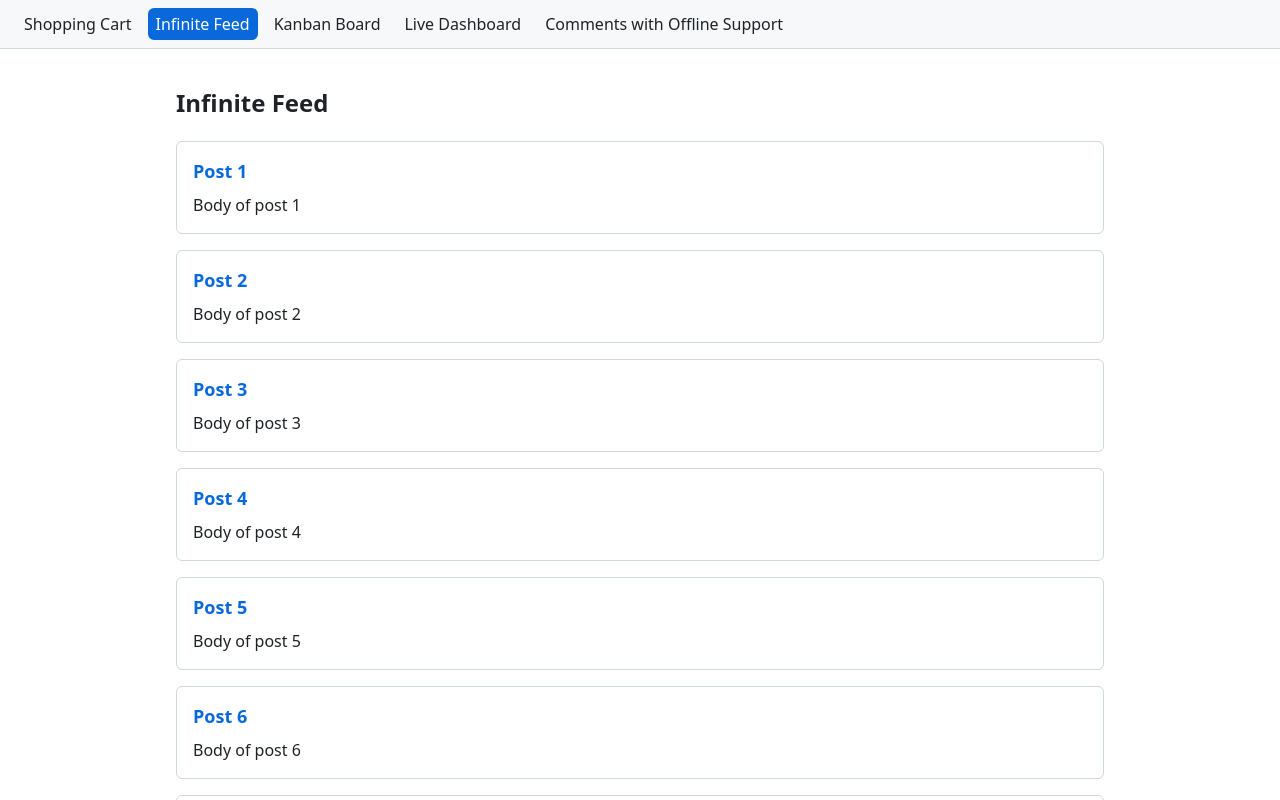
Scenario: app routes › opens the Shopping Cart page from its navigation link
Click the link "Shopping Cart".
click(78, 24)  # box [16, 8, 140, 40]
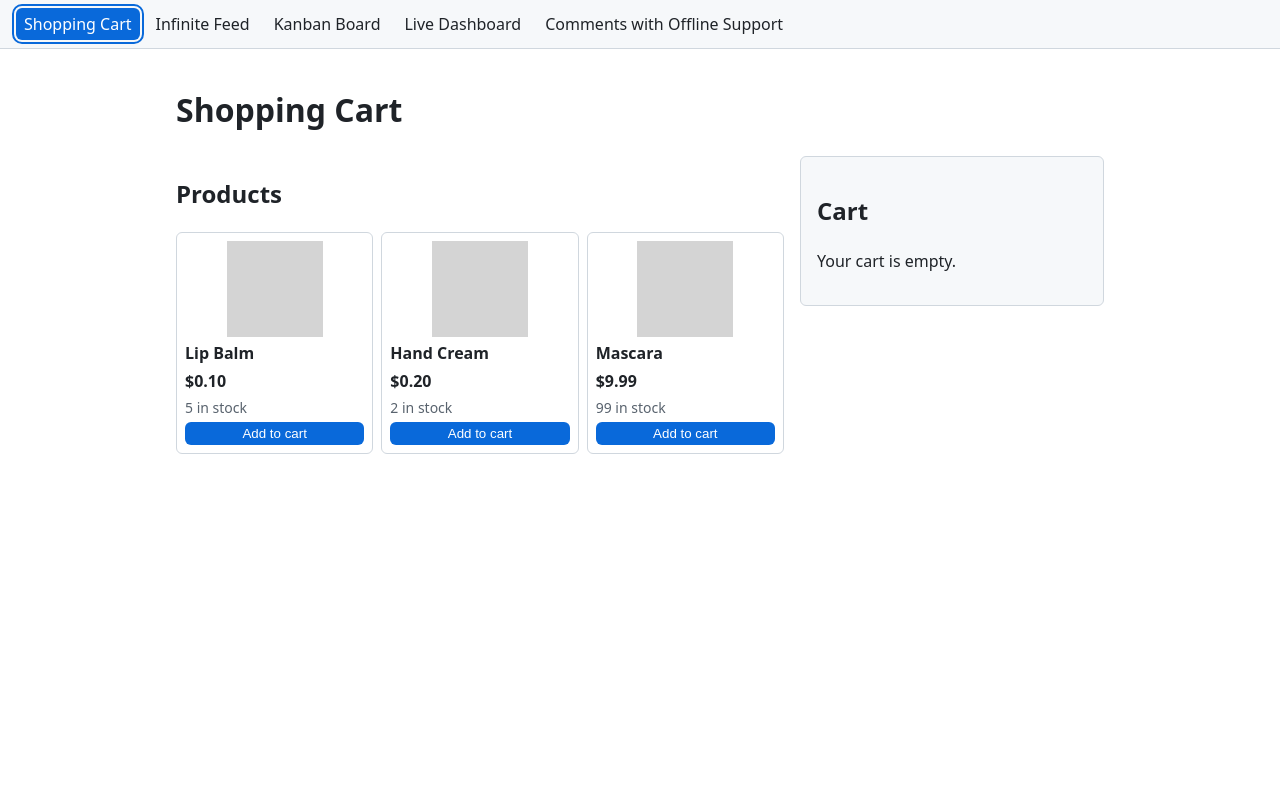
Now the heading "Shopping Cart" is shown, box [176, 88, 402, 131]
